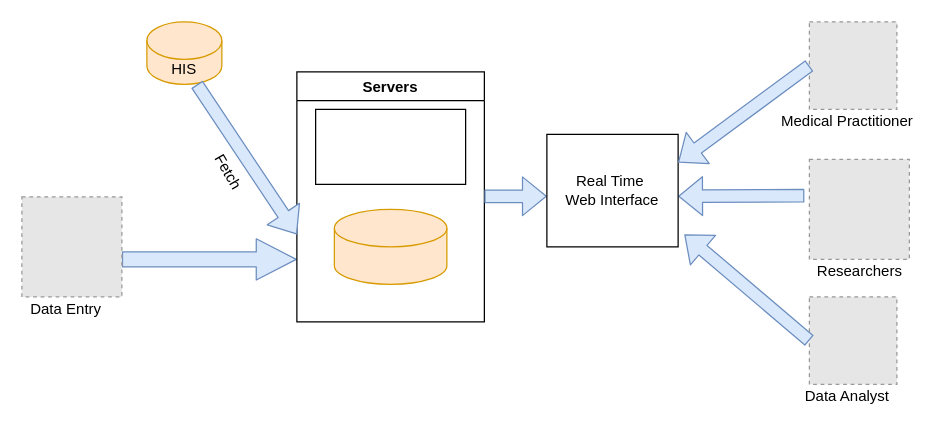
Some shapes in this 944 by 431 pixel diagram are drawn without their labels. Grey dashed boxes stand in for pictures. The box of each missing label's shape, as (x1, y1, x2, y2) in pixels:
Google Sheet as DB: (333, 208, 447, 284)
Open Source Tile Layer Server: (314, 108, 466, 184)
